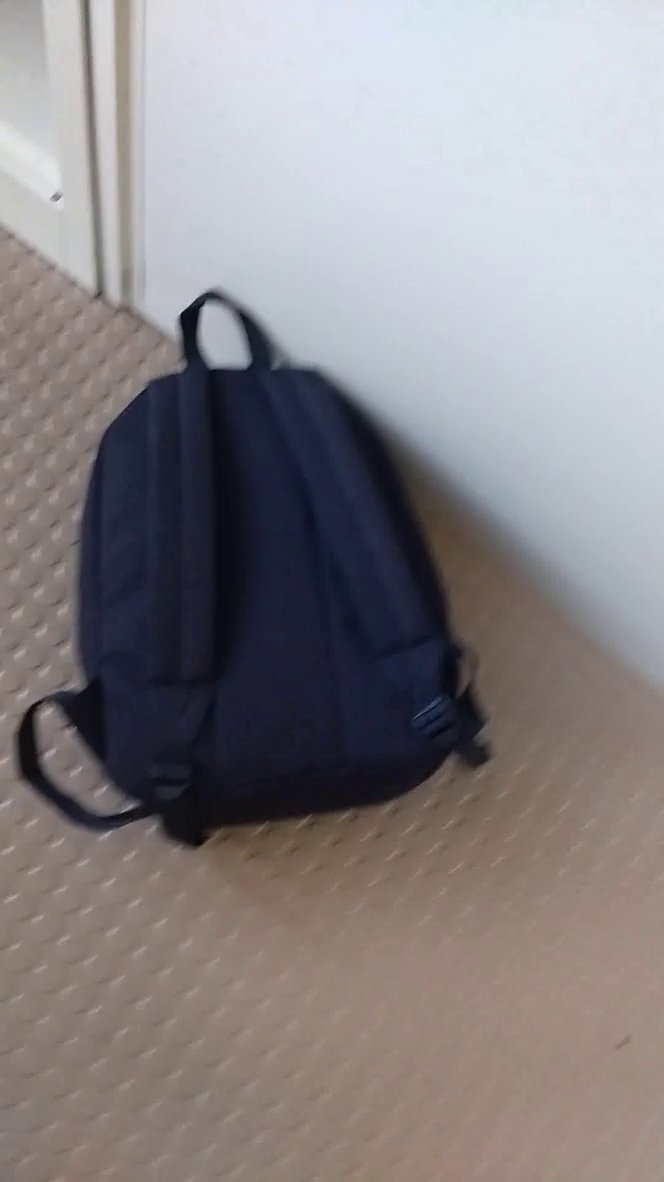bag: (10, 270, 532, 875)
